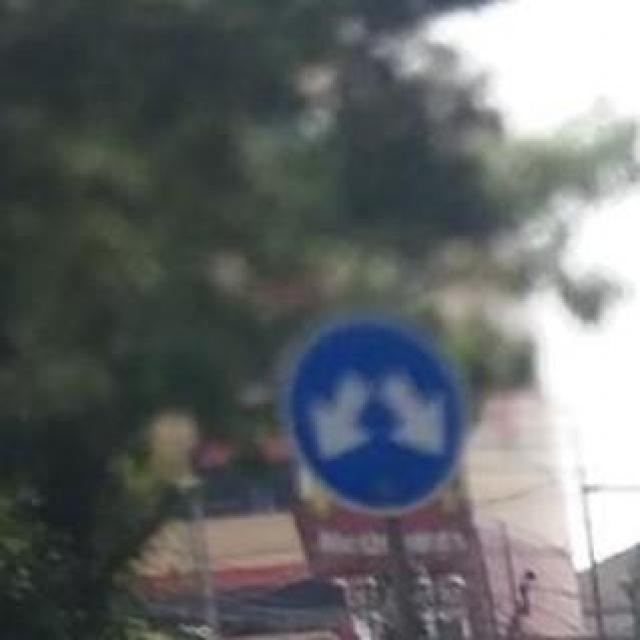traffic sign: (281, 312, 472, 516)
